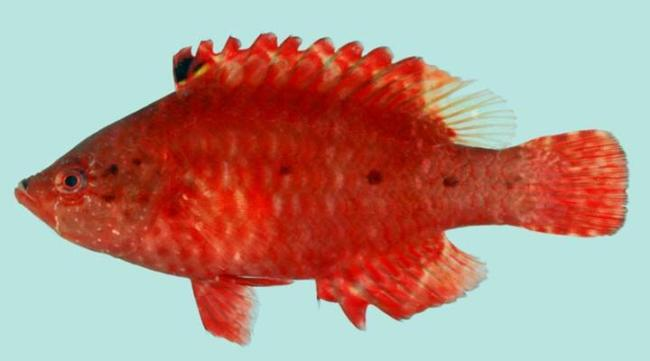fish: (13, 33, 630, 346)
